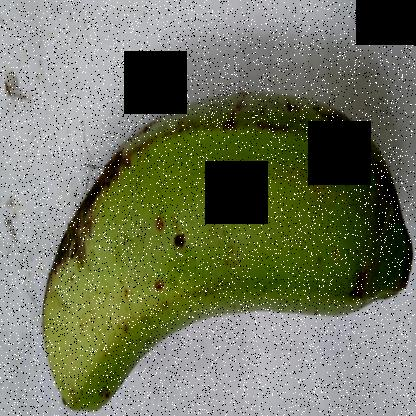unripe: (46, 82, 394, 390)
